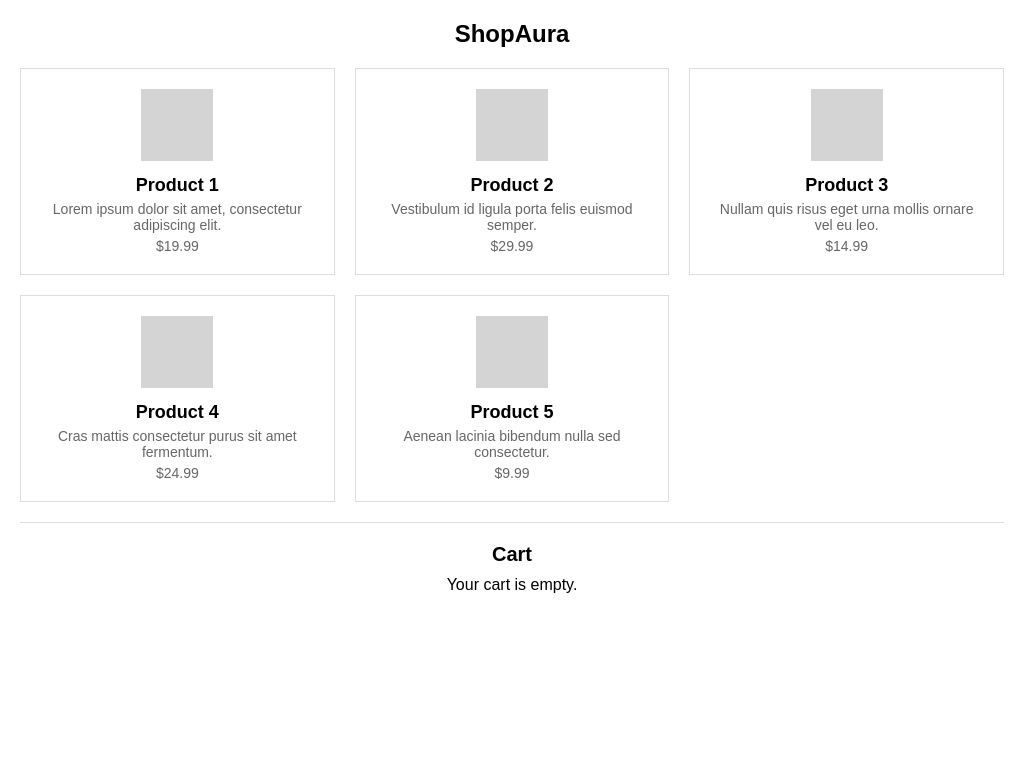
Test: app › displays_total_amount_and_cart_items_correctly_in_the_cart
Click the heading "Product 1": x=177, y=185 136,175 -> 219,195
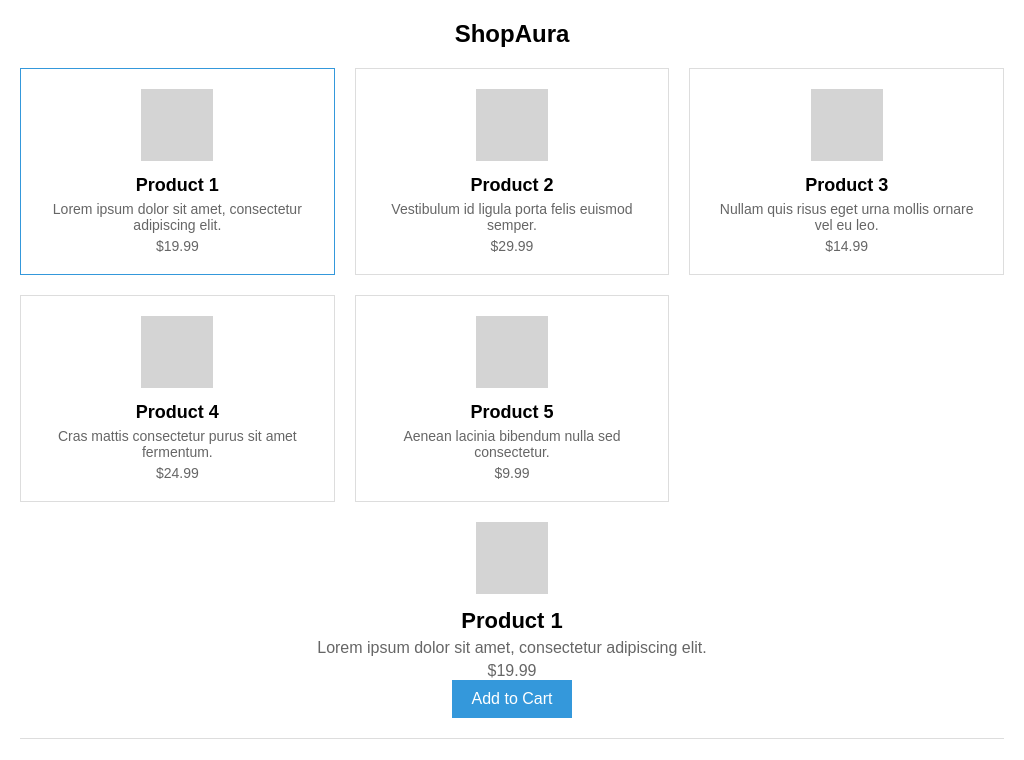
Click the button "Add to Cart": x=512, y=699 452,680 -> 572,718
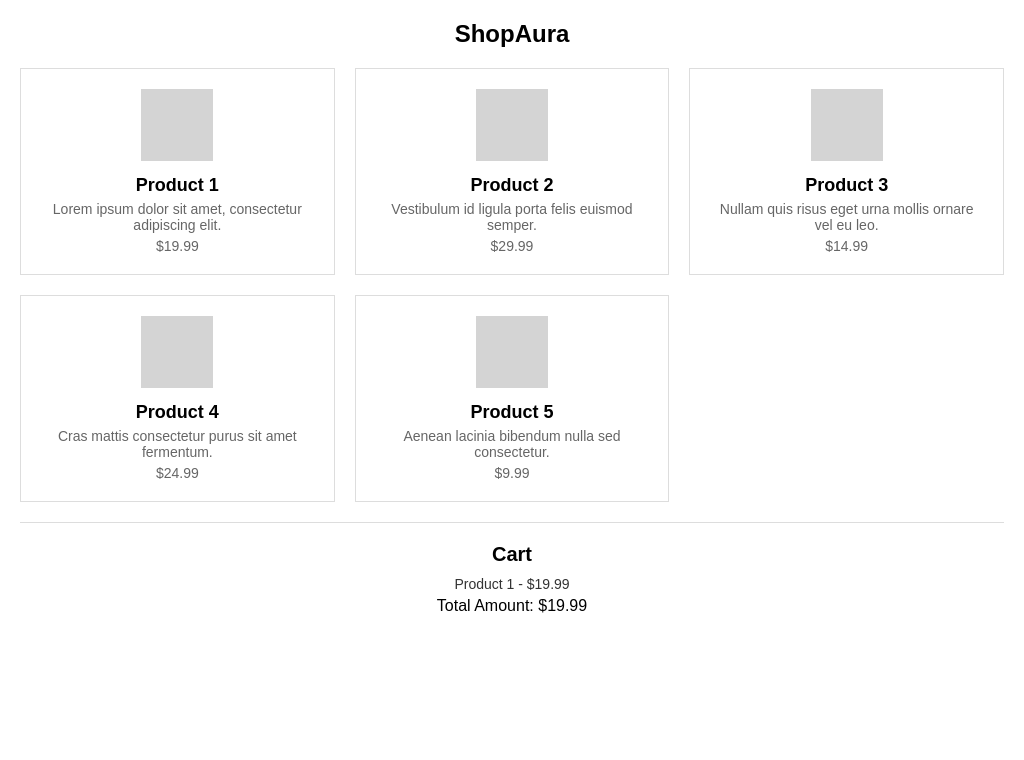
Click the heading "Product 2": x=512, y=185 470,175 -> 554,195
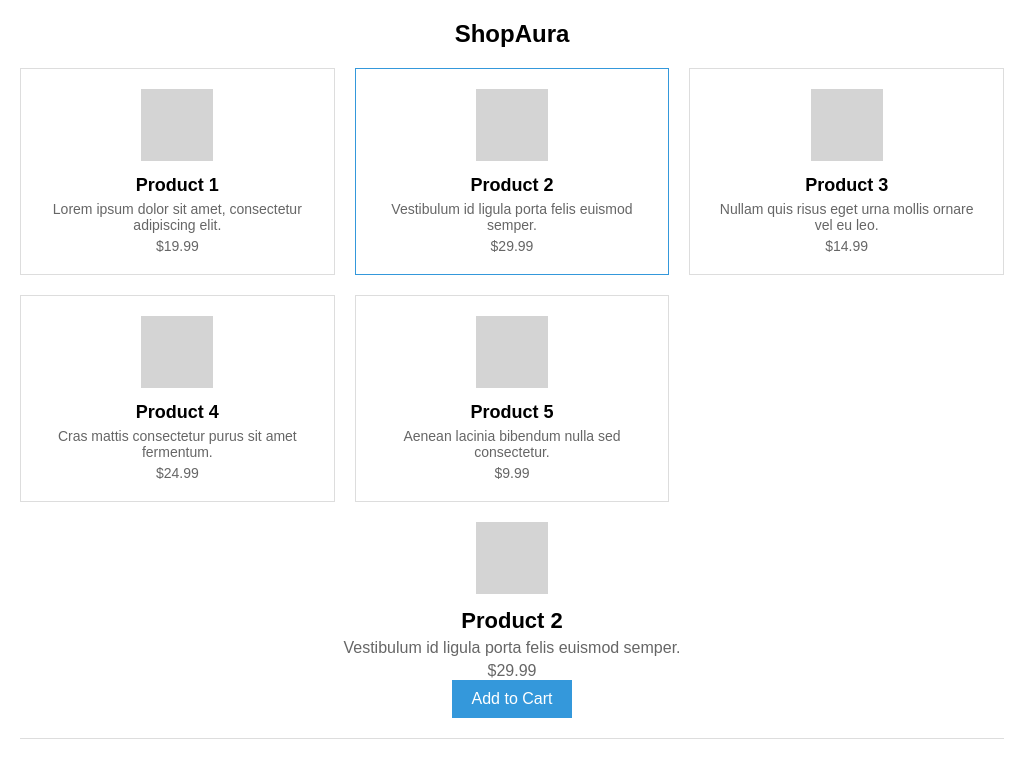
Click the button "Add to Cart": x=512, y=699 452,680 -> 572,718
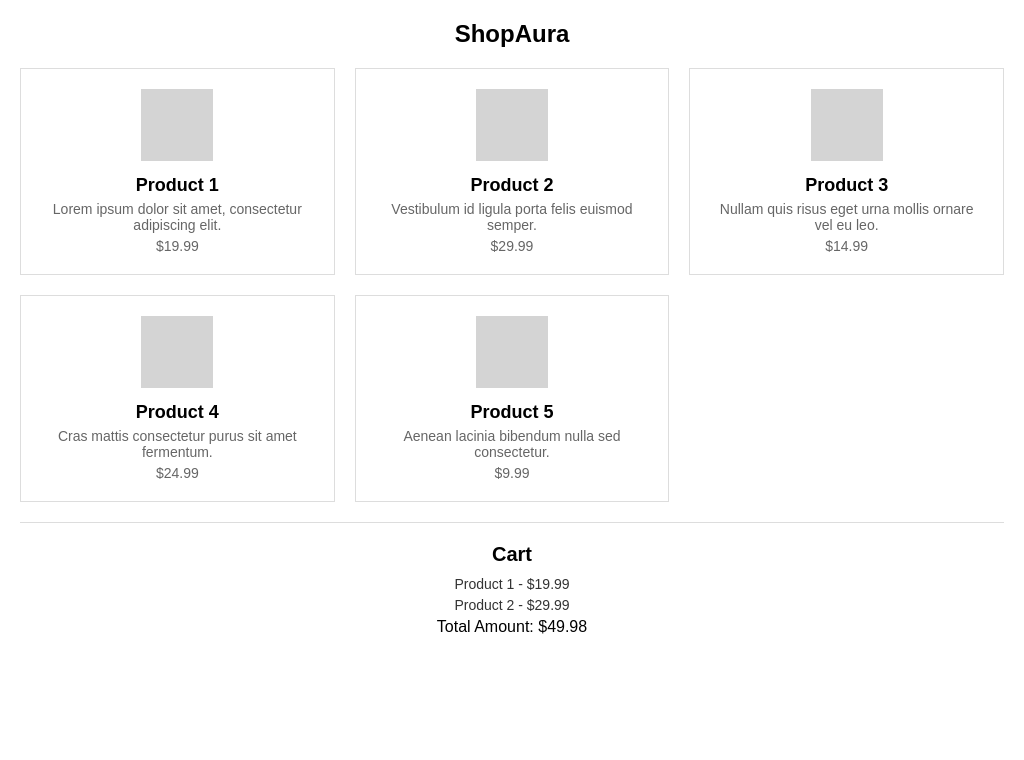
Expected: the list item "Product 1 - $19.99" is shown, 454,576 -> 570,592
Expected: the text "Total Amount: $49.98" is shown, 437,618 -> 587,635
Expected: the list item "Product 2 - $29.99" is shown, 454,597 -> 570,613
